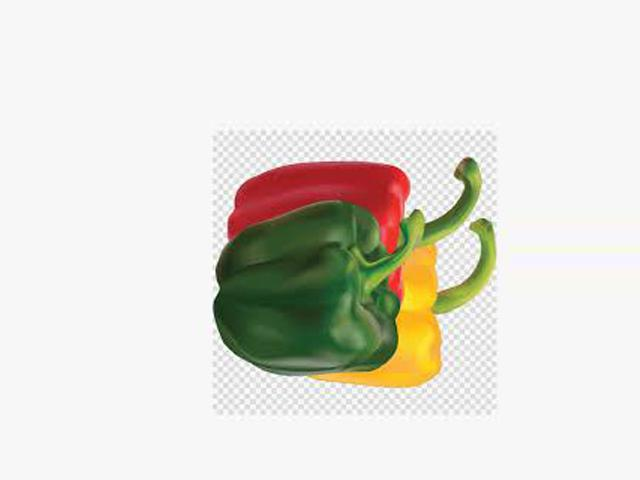bell_pepper: (220, 127, 486, 290)
